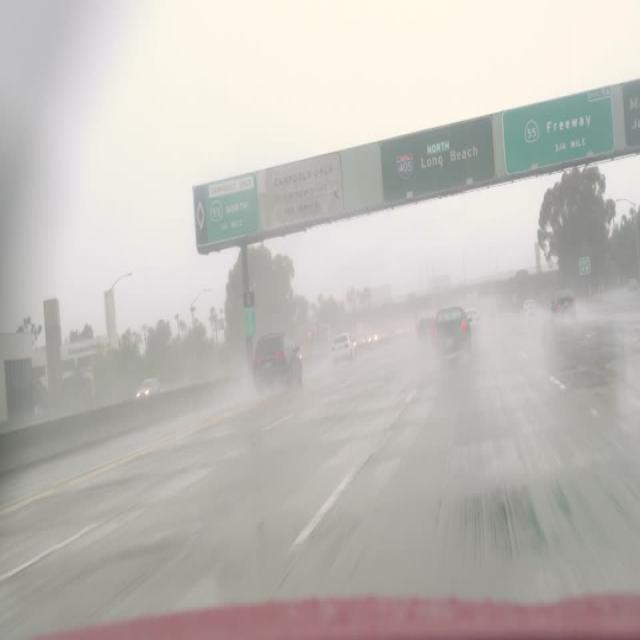car: (250, 331, 302, 391), (433, 302, 469, 356), (329, 333, 357, 363), (550, 289, 577, 317), (136, 376, 161, 400), (415, 314, 434, 338), (465, 303, 479, 325), (523, 298, 536, 316)
